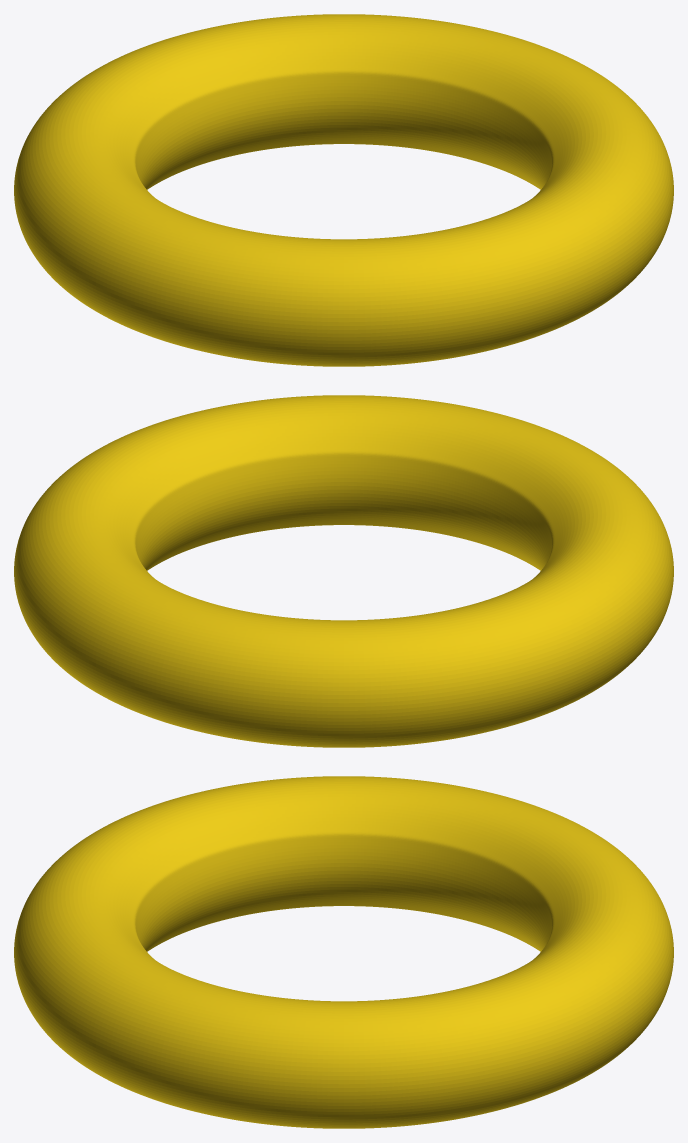
Rendered from Ring.fbx.
The picture shows the model from 3 angles, top to bottom: view 1: azimuth 30°, elevation 25°; view 2: azimuth 150°, elevation 25°; view 3: azimuth 270°, elevation 25°; orthographic projection.
Parts seen in each view (by area): view 1: Torus; view 2: Torus; view 3: Torus.
Part boxes in pixels (box(x1,y1,x2,y2)): Torus: box(14, 14, 673, 366); Torus: box(14, 395, 673, 747); Torus: box(14, 776, 673, 1128).
Size of the model in its own units: 2.47 by 0.4777 by 2.47.
